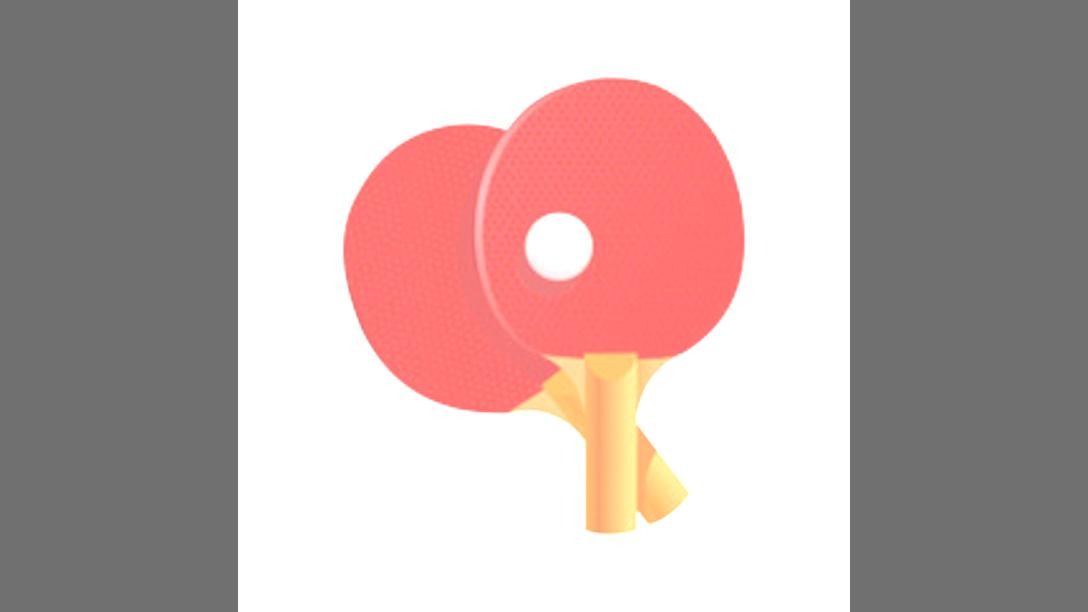Table-Tennis-Ball: (526, 215, 590, 279)
